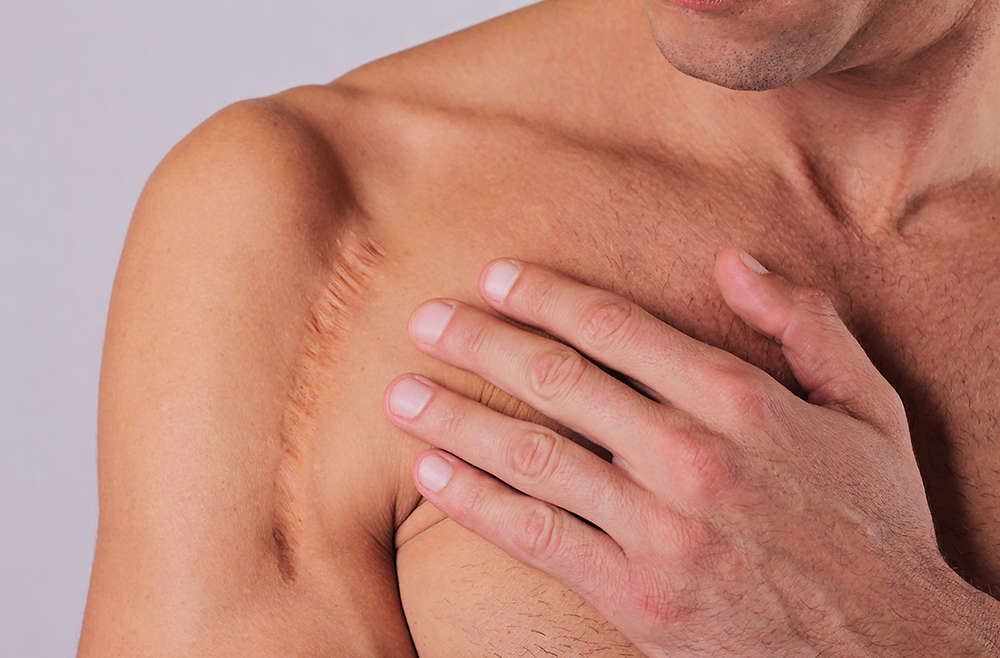scar: (248, 220, 394, 608)
